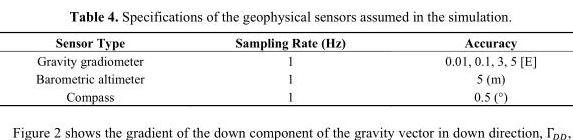table: (35, 34, 535, 103)
table column: (189, 34, 394, 103), (35, 34, 189, 103), (394, 34, 535, 103)
table column header: (35, 34, 535, 51)
table row: (35, 51, 535, 69), (35, 69, 535, 87), (35, 34, 535, 51), (35, 87, 535, 103)
